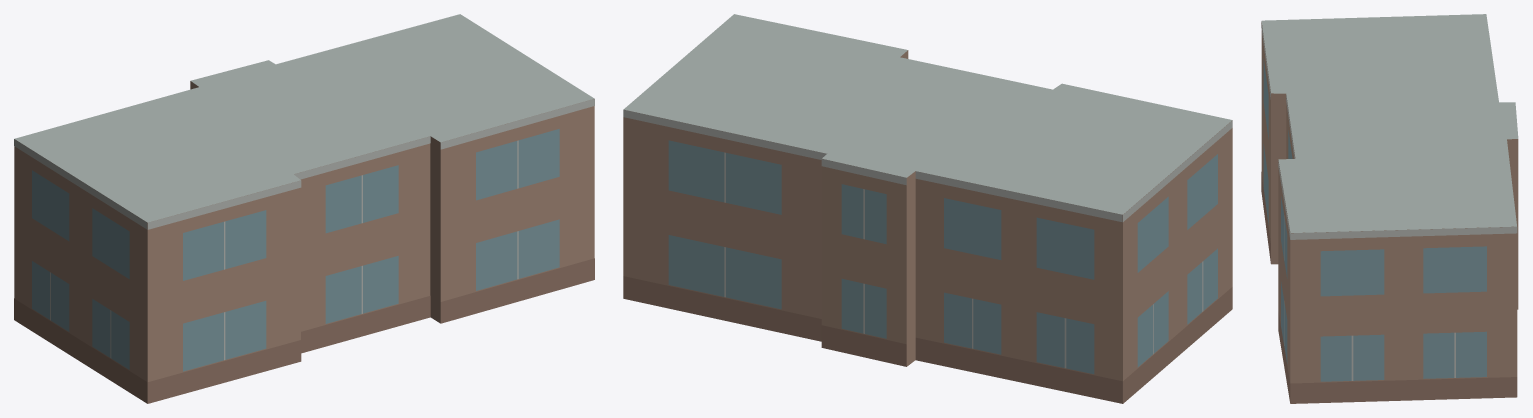
Rendered from survey-upis-32708234.glb.
3 renders of one model, left to right at view 1: azimuth 30°, elevation 25°; view 2: azimuth 150°, elevation 25°; view 3: azimuth 270°, elevation 25°, orthographic. The views are drawn at different scales.
Parts seen in each view (by area): view 1: survey-upis-32708234.tmp; view 2: survey-upis-32708234.tmp; view 3: survey-upis-32708234.tmp.
Boxes of the visible parts, x1=… form: survey-upis-32708234.tmp: x1=14, y1=14, x2=594, y2=403; survey-upis-32708234.tmp: x1=623, y1=14, x2=1232, y2=403; survey-upis-32708234.tmp: x1=1261, y1=14, x2=1518, y2=403.
Size of the model in its own units: 16.8 by 6.1 by 8.33.
